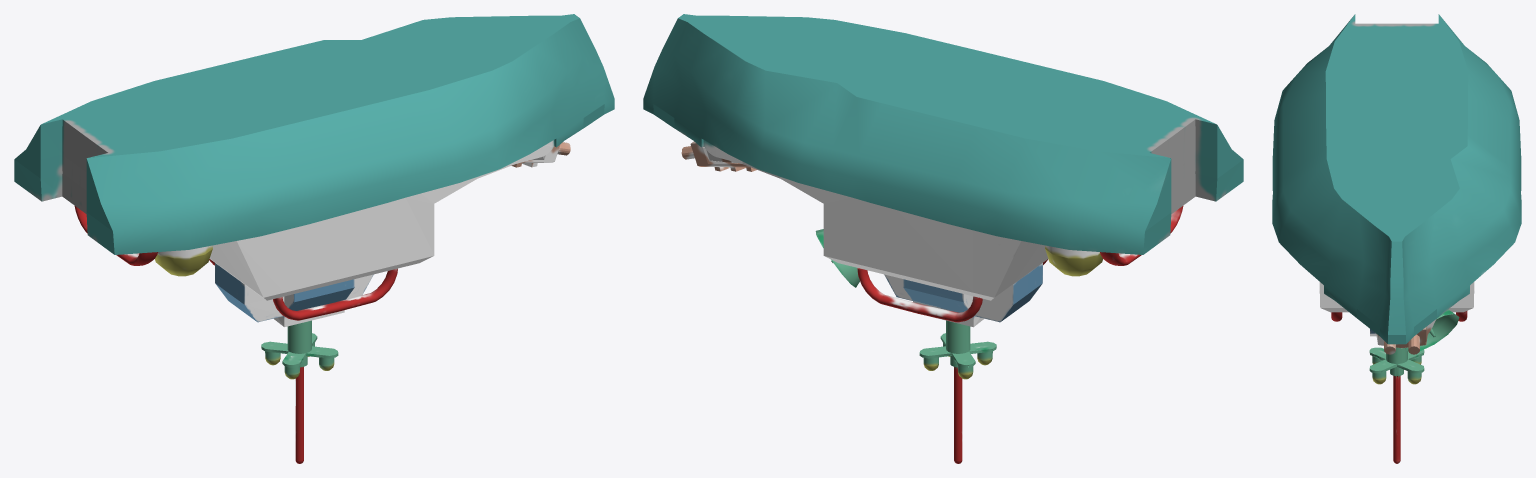
The model's file is Destroyer.FBX.
3 renders of one model, left to right at view 1: azimuth 30°, elevation 25°; view 2: azimuth 150°, elevation 25°; view 3: azimuth 270°, elevation 25°, orthographic. The views are drawn at different scales.
Visible parts, largest first — view 1: Box001; view 2: Box001; view 3: Box001.
Boxes of the visible parts, x1,y1,x2,y2 form: Box001: (14, 14, 614, 463); Box001: (643, 14, 1243, 463); Box001: (1272, 14, 1521, 463).
Size of the model in its own units: 72.06 by 47.91 by 31.37.
1 material, 1 textured.
